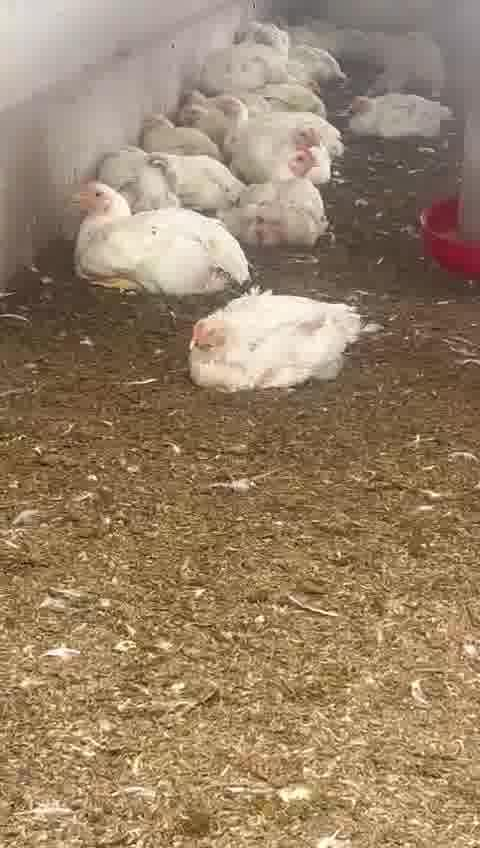AbNormal: (193, 282, 368, 393), (133, 115, 215, 171), (88, 155, 183, 202), (167, 85, 255, 129)
Normal: (71, 184, 248, 297), (231, 152, 340, 250), (216, 87, 345, 148), (334, 91, 450, 139), (233, 125, 336, 177)
